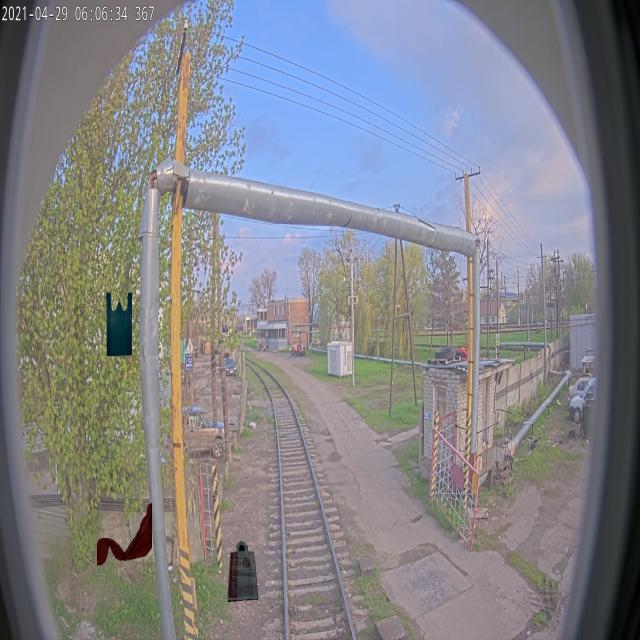floating object: (97, 502, 152, 566)
plastic bag: (227, 538, 258, 602), (106, 292, 132, 356)
